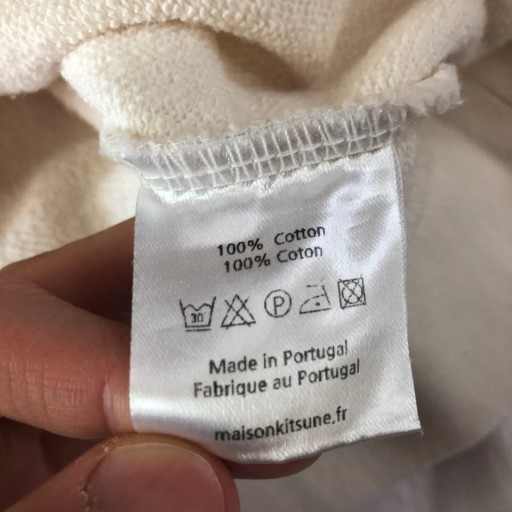ER_dry_clean_chemical: (260, 284, 293, 322)
ER_iron_low_temp: (296, 280, 334, 318)
ER_no_bleach: (218, 291, 259, 332)
ER_no_tumble_dry: (336, 273, 368, 314)
ER_wash_30_mild: (178, 292, 218, 335)
